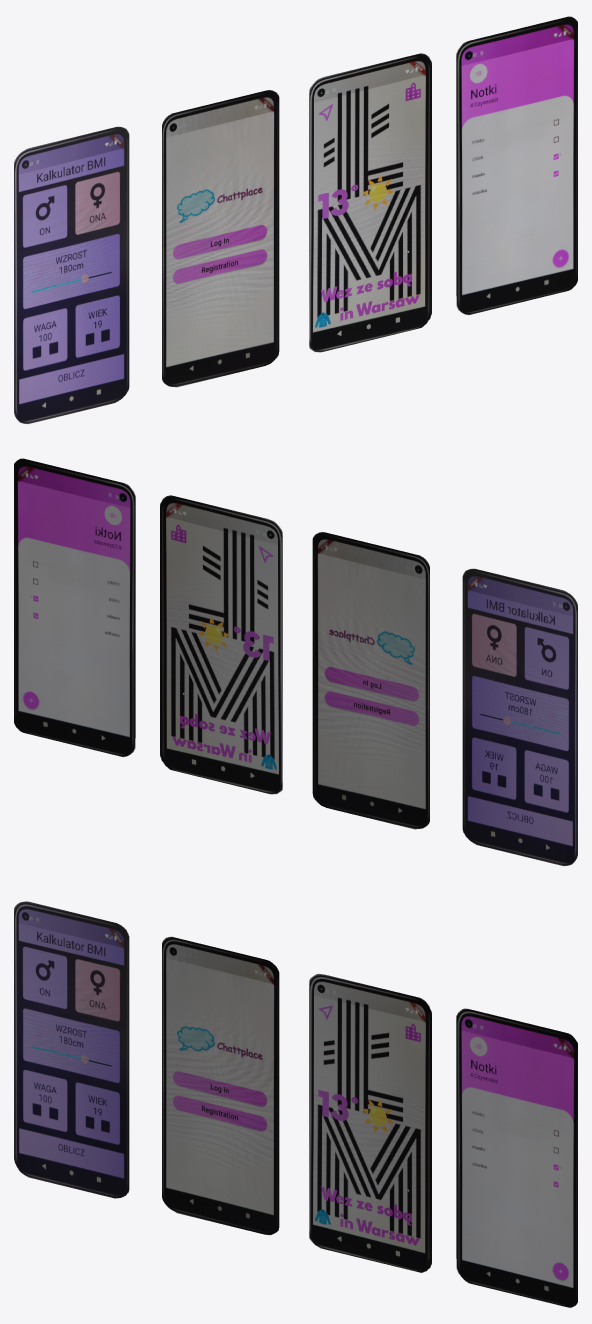
The model's file is prezentacja2.glb.
3 renders of one model, top to bottom at view 1: azimuth 30°, elevation 25°; view 2: azimuth 150°, elevation 25°; view 3: azimuth 330°, elevation 25°, orthographic.
Parts seen in each view (by area): view 1: mesh_id30, mesh_id32, mesh_id28, mesh_id26; view 2: mesh_id30, mesh_id32, mesh_id28, mesh_id26; view 3: mesh_id30, mesh_id32, mesh_id28, mesh_id26.
Boxes of the visible parts, x1,y1,x2,y2 form: mesh_id30: (309,53,431,352); mesh_id32: (456,16,577,315); mesh_id28: (162,90,279,387); mesh_id26: (14,126,129,424); mesh_id30: (160,495,282,794); mesh_id32: (14,458,135,757); mesh_id28: (312,532,429,829); mesh_id26: (462,568,577,866); mesh_id30: (309,974,431,1272); mesh_id32: (456,1008,577,1307); mesh_id28: (162,936,279,1234); mesh_id26: (14,901,129,1198).
Bounding box in the file's own units: 1.32 × 0.6176 × 0.
Materials: 4 (4 with a texture image).
